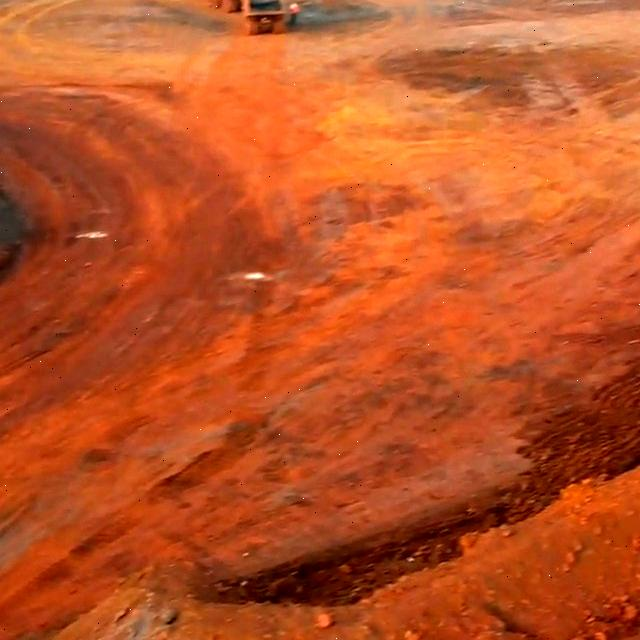Dumper truck: (242, 0, 288, 31)
